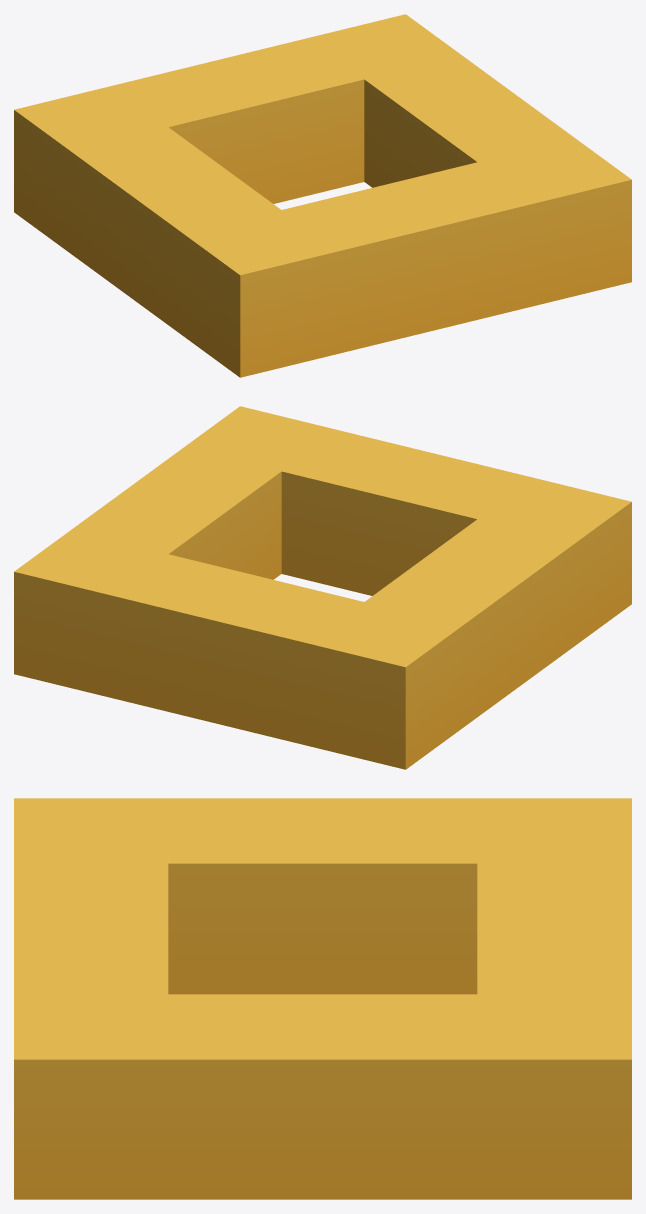
The model's file is Primitive_Floor_Hole.glb.
3 views of the same model, one above another, from view 1: azimuth 30°, elevation 25°; view 2: azimuth 150°, elevation 25°; view 3: azimuth 270°, elevation 25° (orthographic). The views are drawn at different scales.
Parts seen in each view (by area): view 1: Primitive_Floor_Hole; view 2: Primitive_Floor_Hole; view 3: Primitive_Floor_Hole.
Part boxes in pixels (<box>): Primitive_Floor_Hole: <box>14,14,631,377</box>; Primitive_Floor_Hole: <box>14,406,631,769</box>; Primitive_Floor_Hole: <box>14,798,631,1199</box>.
Size of the model in its own units: 4 by 1 by 4.
Materials: 1 (1 with a texture image).
